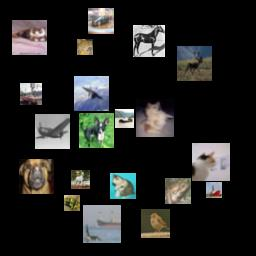airplane: (74, 76, 109, 111), (35, 114, 70, 149)
automobile: (88, 8, 114, 34), (20, 83, 42, 105)
bird: (141, 209, 170, 238)
cat: (192, 143, 230, 181), (12, 20, 47, 55), (110, 173, 136, 199)
deer: (177, 46, 212, 81)
dog: (136, 99, 174, 137), (19, 159, 54, 194), (79, 113, 114, 148)
frog: (165, 178, 191, 204), (77, 39, 93, 55), (64, 195, 80, 211)
ship: (83, 205, 121, 243), (115, 109, 134, 128), (206, 182, 222, 198)
